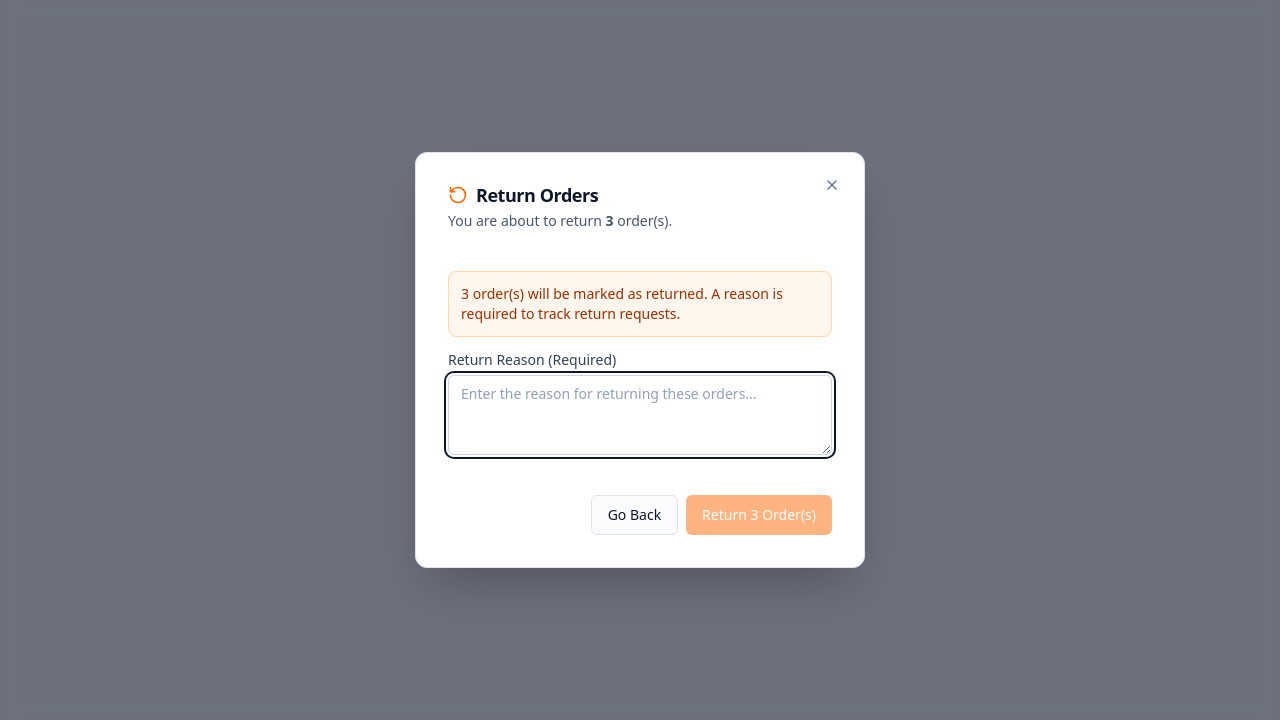
Test: BatchReturnDialog Component › Submit Action › submit is enabled when reason has text
The image size is (1280, 720).
Type "Damaged goods" into the text box with placeholder "Enter the reason for returning these orders..." at [640, 415], box [448,375,832,455]
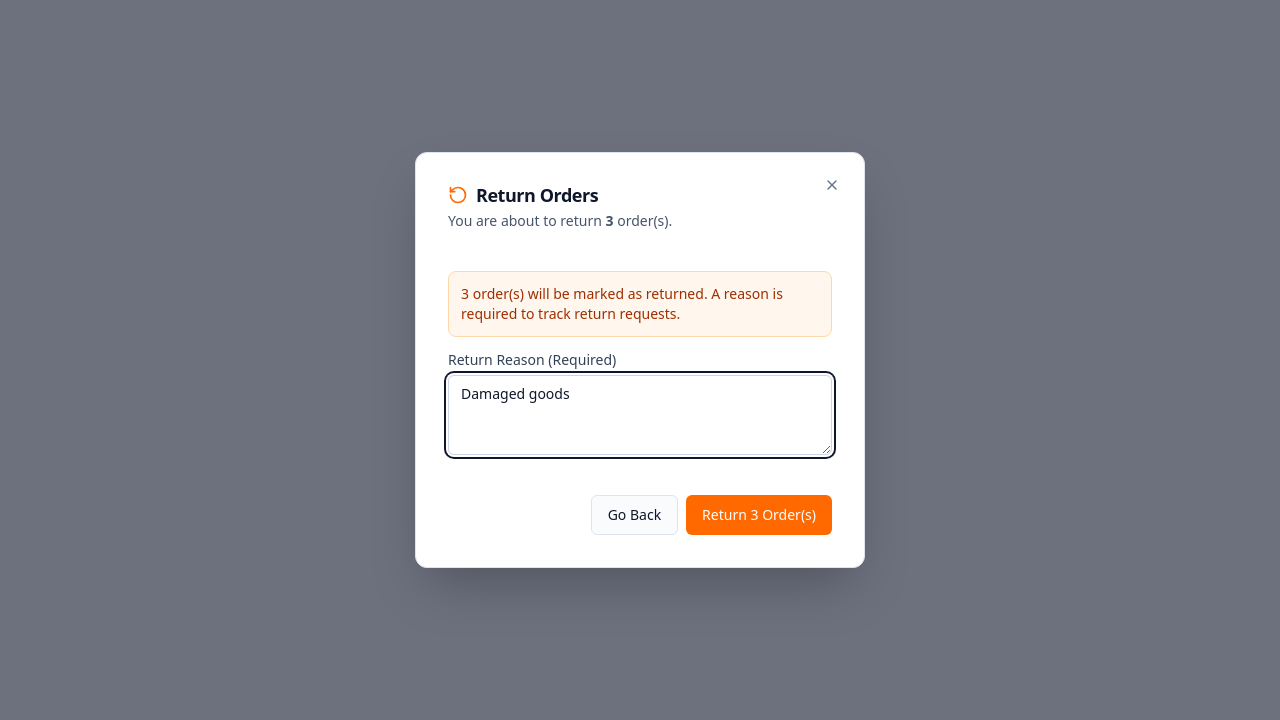
Expected: the button "Return 3 Order(s)" is enabled, [686,495,832,535]
